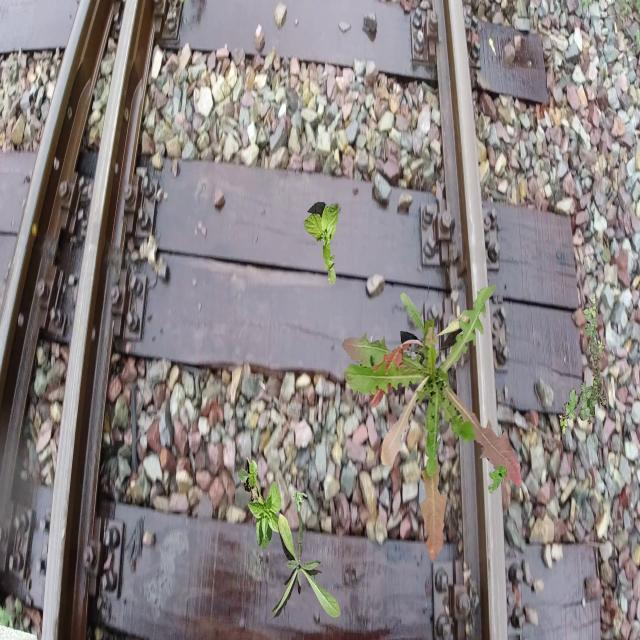Plant: (342, 285, 522, 563), (269, 512, 341, 620), (400, 292, 472, 392), (559, 297, 608, 435), (238, 456, 286, 551), (303, 202, 338, 286), (488, 462, 508, 494), (293, 492, 307, 512)
